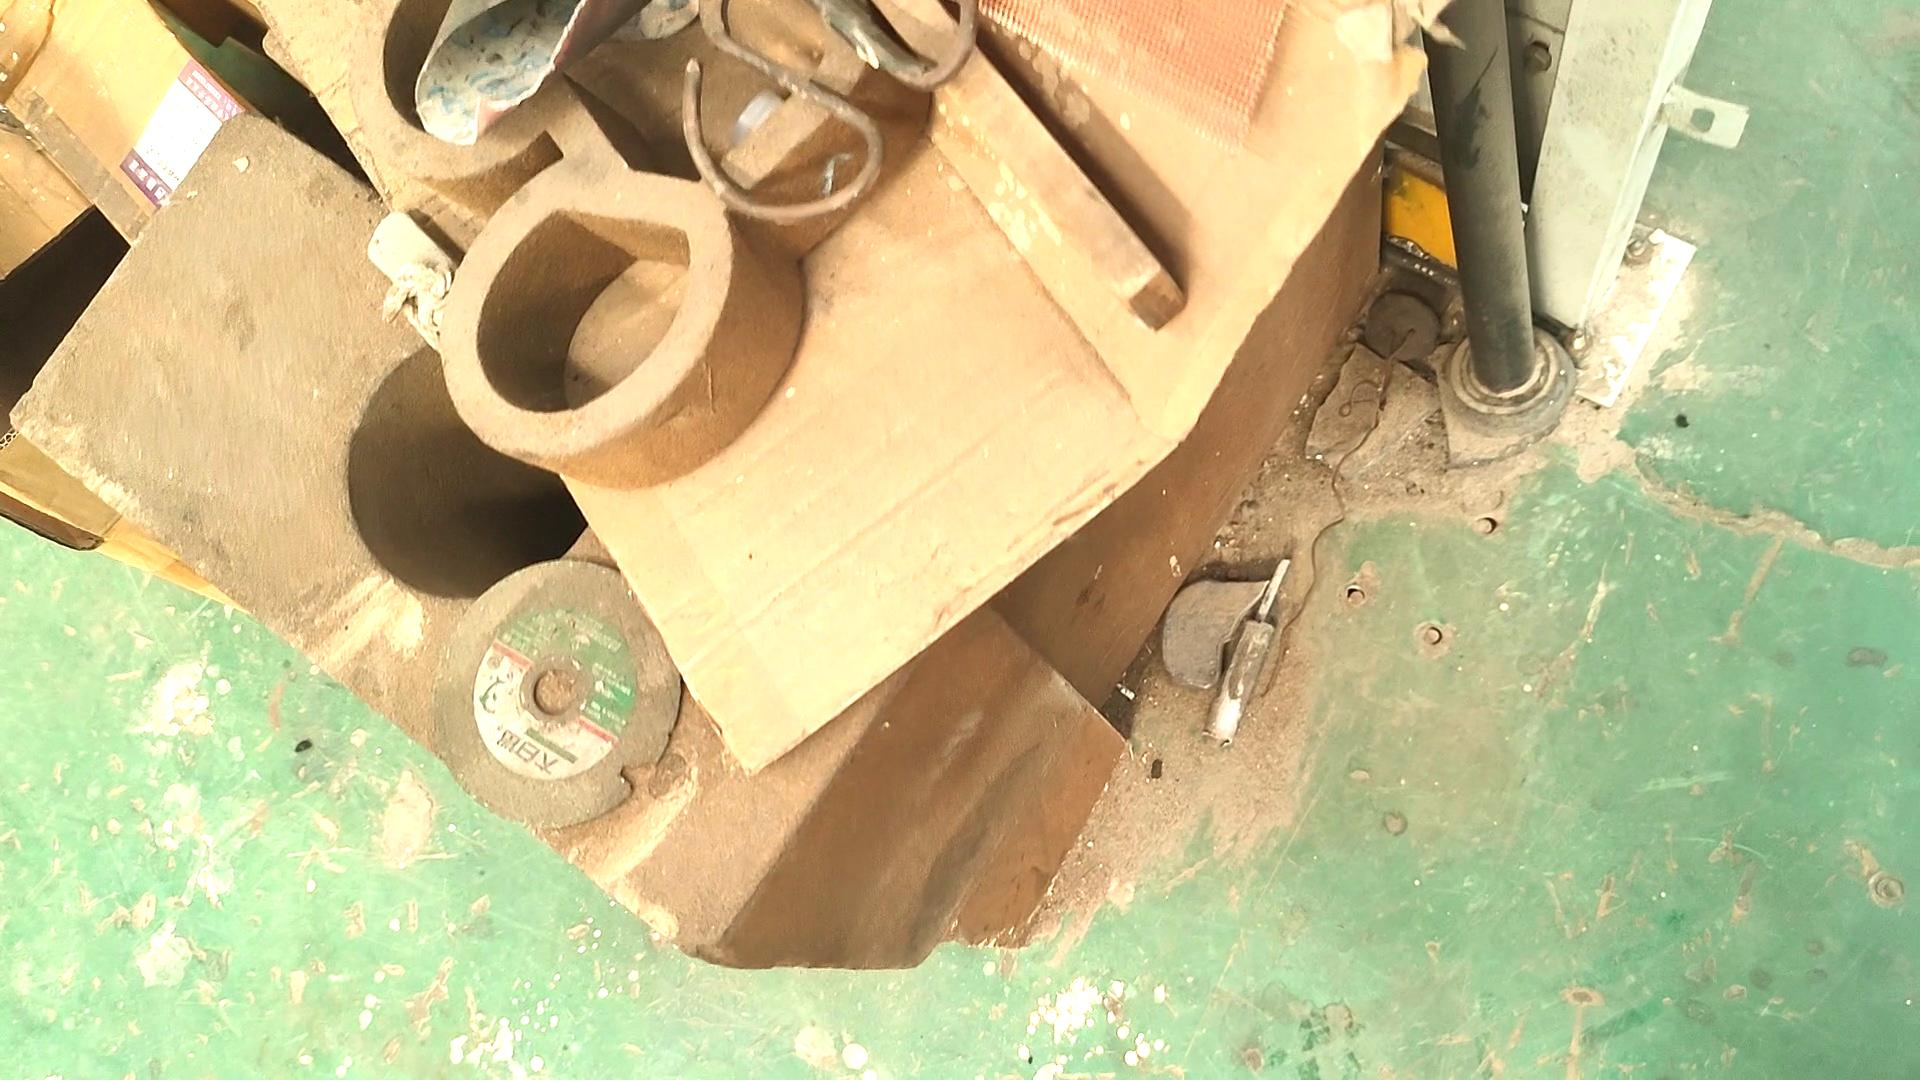pouring hole: (345, 316, 611, 597)
